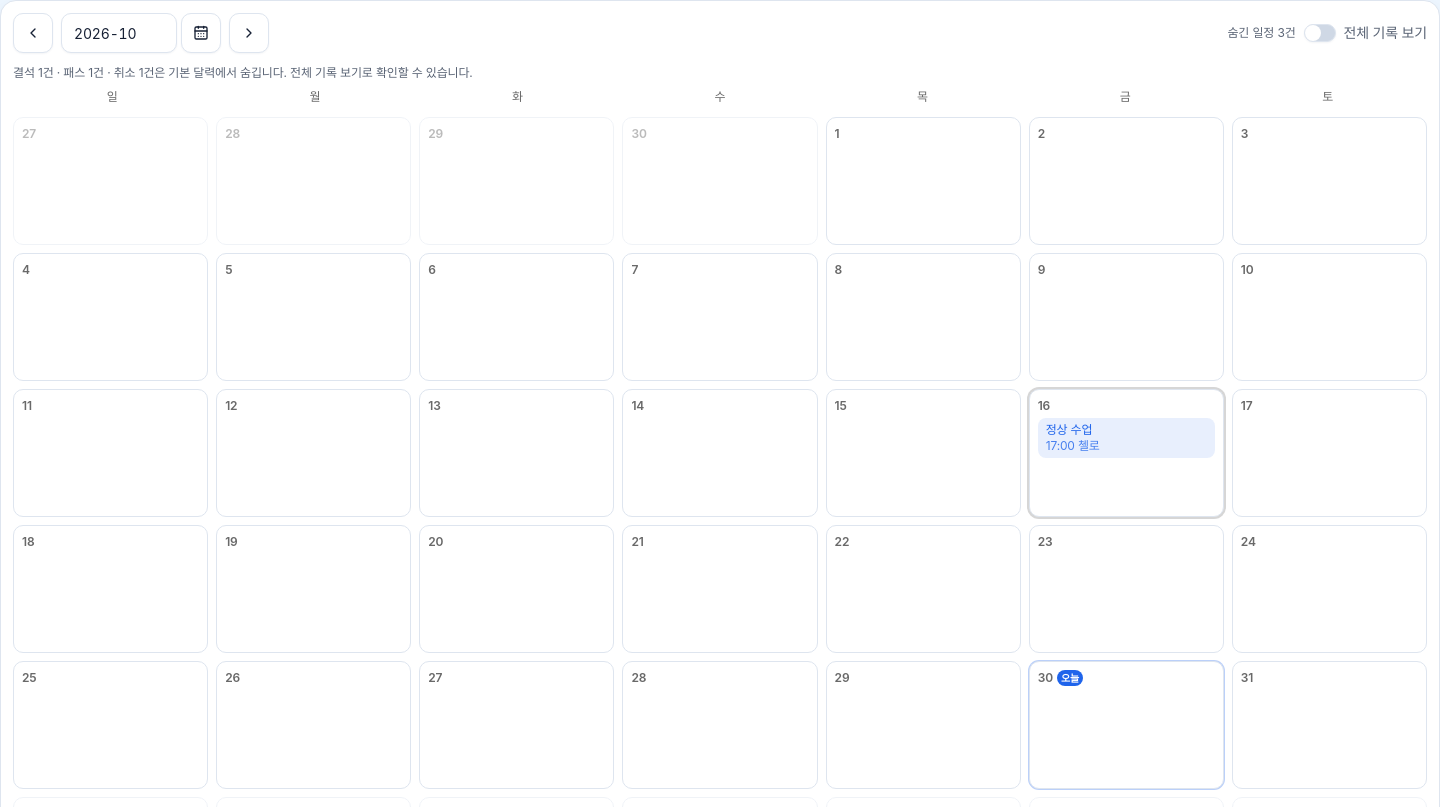
Scenario: 월간 레슨 캘린더 › 결석 일정은 기본 숨기고 전체 기록 보기로 확인한다
Expected: the text "결석 원생" is not shown
Expected: the text "정상 수업" is shown, x1=1046 y1=422 x2=1092 y2=437
Click the switch named "전체 기록 보기" at (1320,33), box x1=1304 y1=24 x2=1336 y2=42
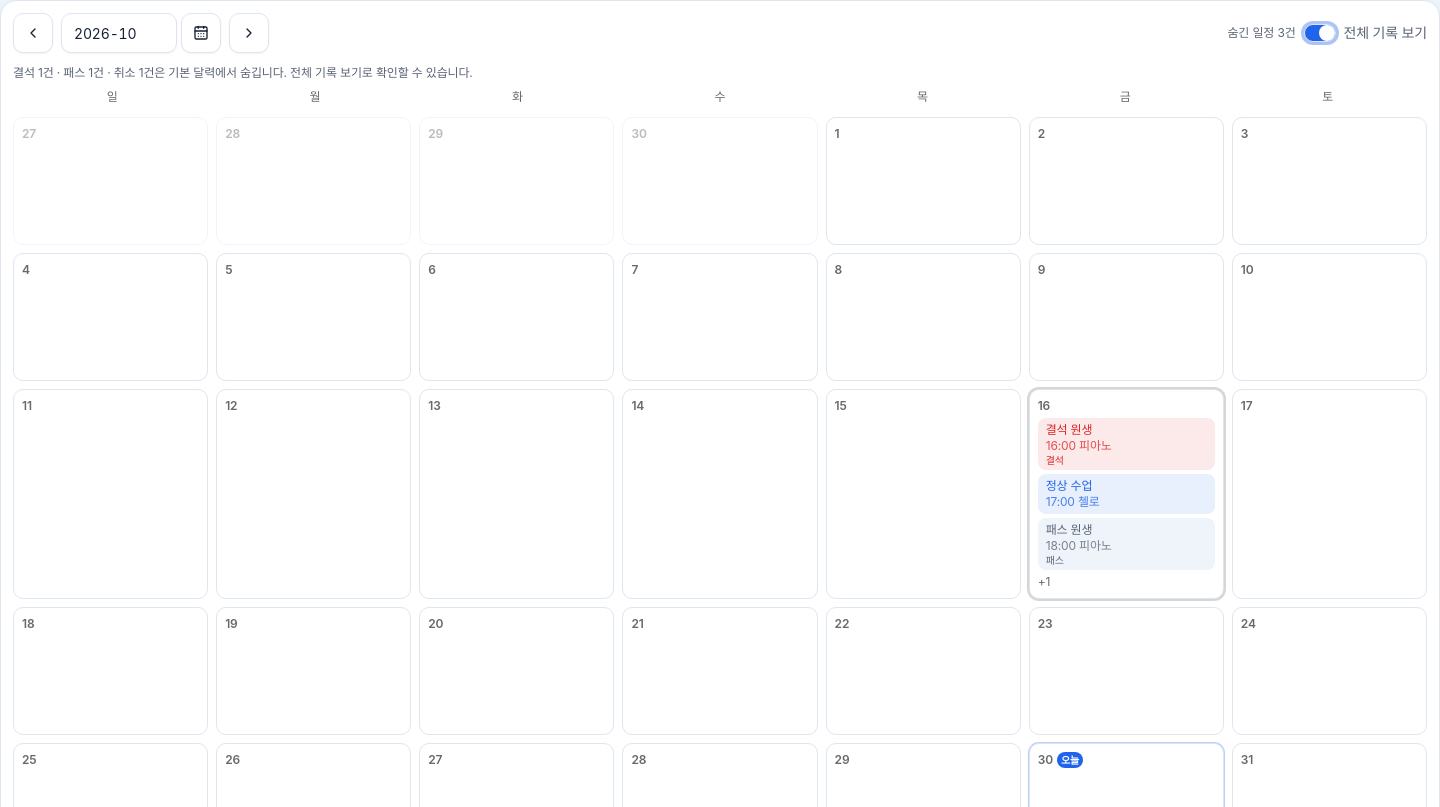
Expected: the text "결석 원생" is shown, x1=1046 y1=422 x2=1092 y2=437
Expected: the text "패스 원생" is shown, x1=1046 y1=522 x2=1092 y2=537
Expected: the text "+1" is shown, x1=1038 y1=574 x2=1050 y2=589
